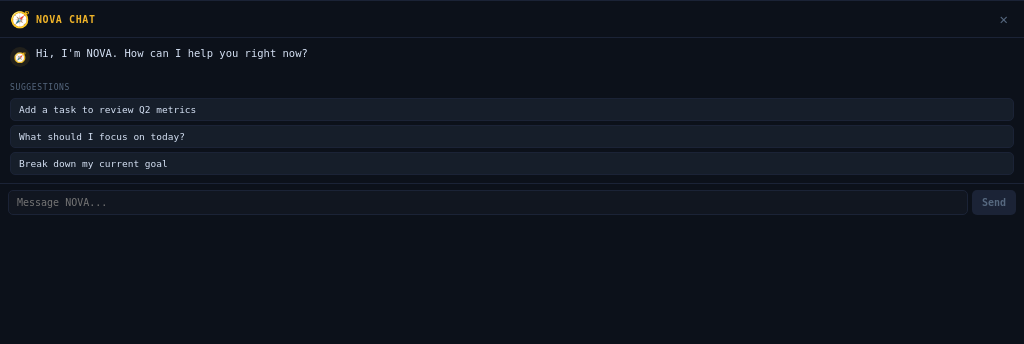
Test: NovaCompassChat › handleUndo › shows undo button after successful action and can undo
Type "add a task" into the field with placeholder "Message NOVA..." at (488, 202), box [8,190,968,215]
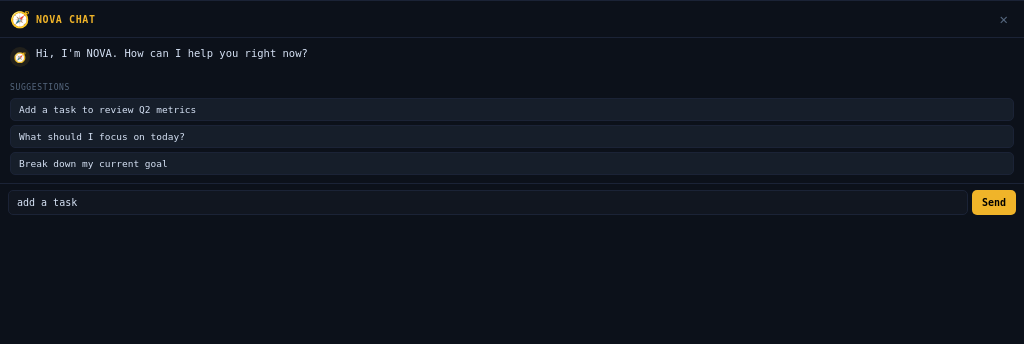
Click the button "Send" at (994, 202), box [972,190,1016,215]
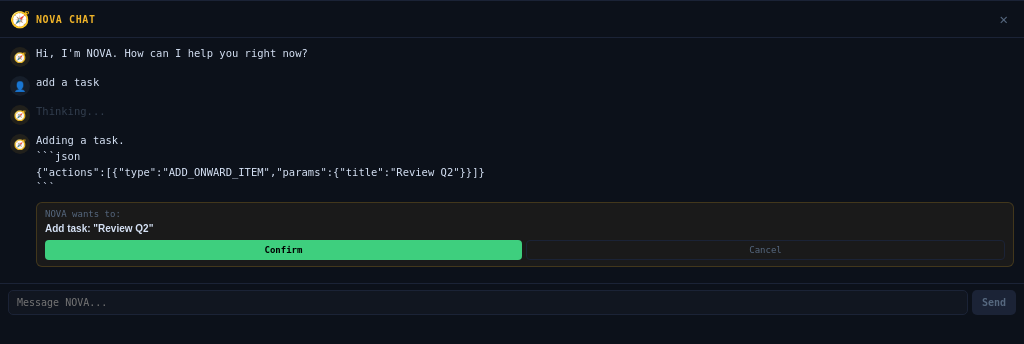
Check: the button "Confirm" is shown
Click the button "Confirm" at (284, 250), box [45,240,522,260]
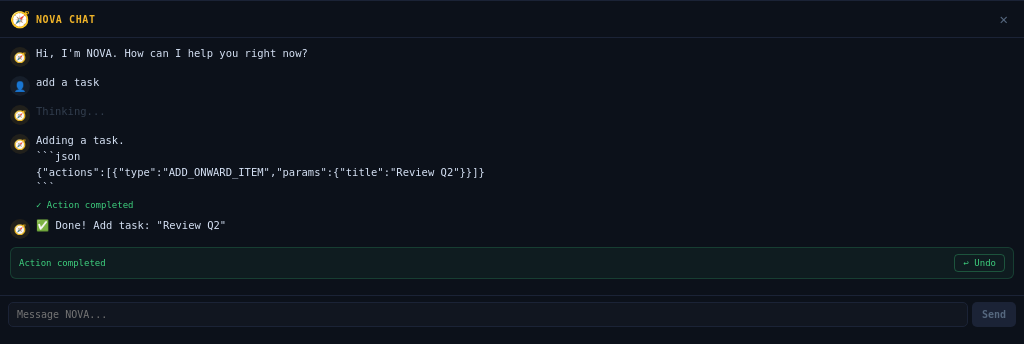
Check: the button "↩ Undo" is shown
Click the button "↩ Undo" at (980, 263), box [954,254,1005,272]
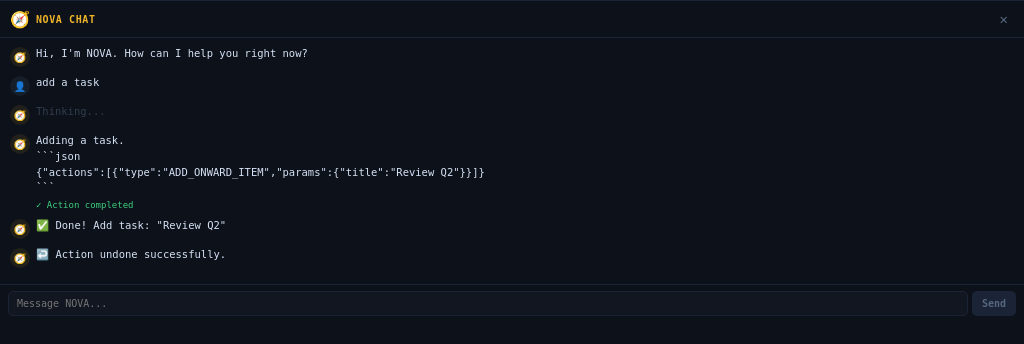
Check: the text "↩️ Action undone successfully." is shown, box [36,248,226,260]
